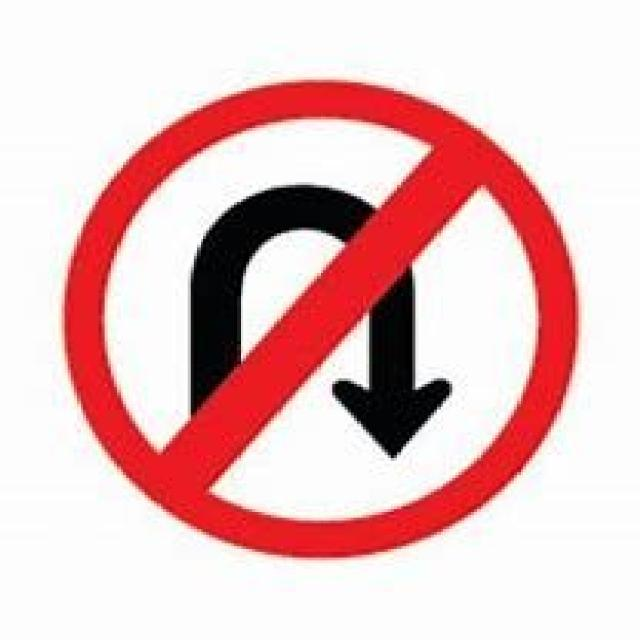u turn prohibited: (58, 72, 582, 564)
